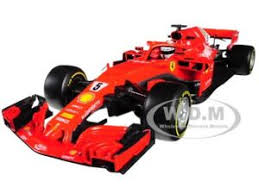FormulaOneCar: (1, 18, 255, 174)
